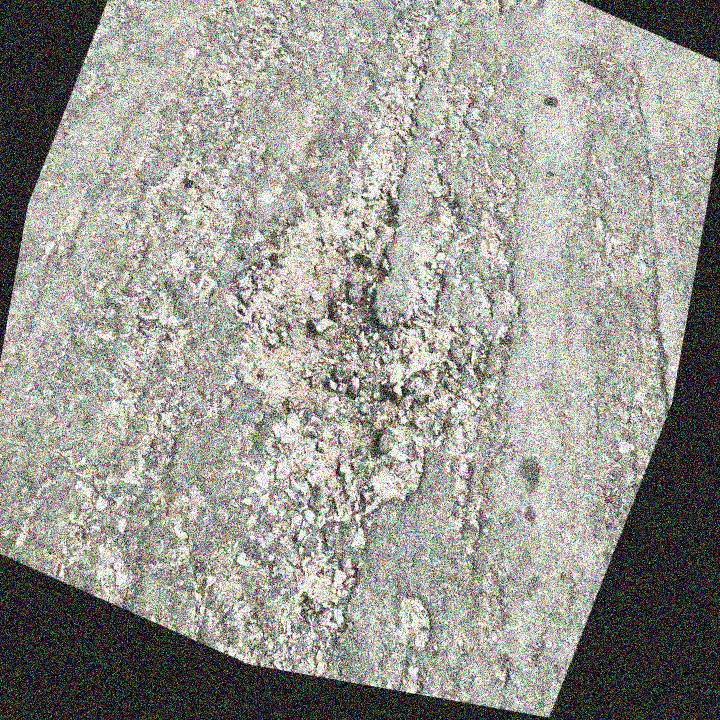pothole: (157, 133, 515, 546)
